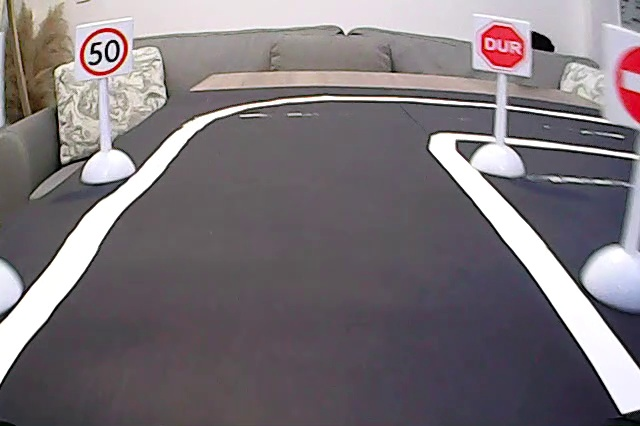speed limit 50: (80, 29, 132, 78)
stop sign: (474, 17, 529, 76)
